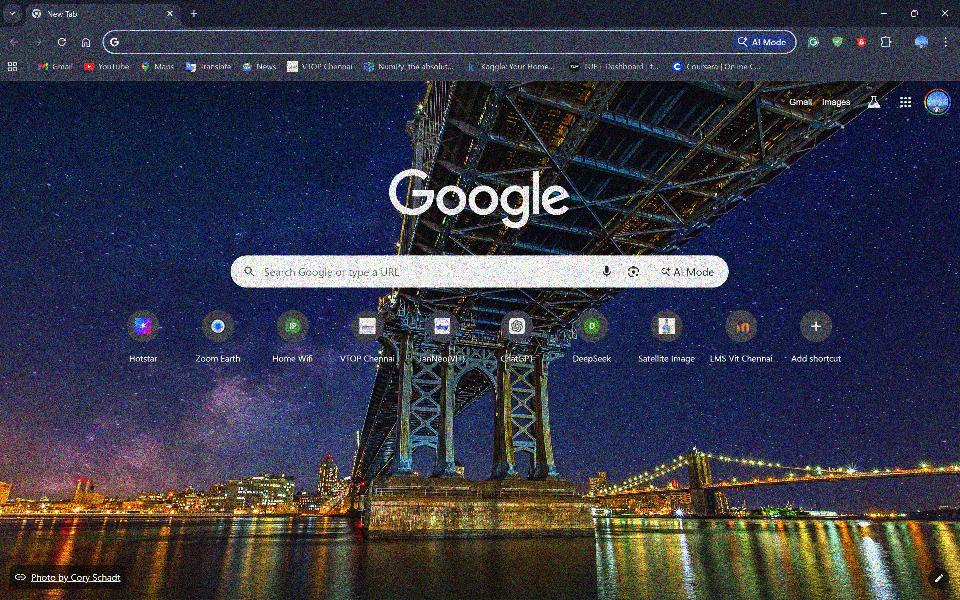close_button: (935, 1, 957, 24)
maximize_button: (901, 1, 925, 26)
minimize_button: (874, 1, 894, 25)
